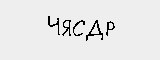Д: (86, 16, 105, 42)
Р: (105, 19, 116, 39)
С: (71, 19, 86, 38)
Ч: (44, 15, 63, 37)
Я: (59, 19, 73, 39)
